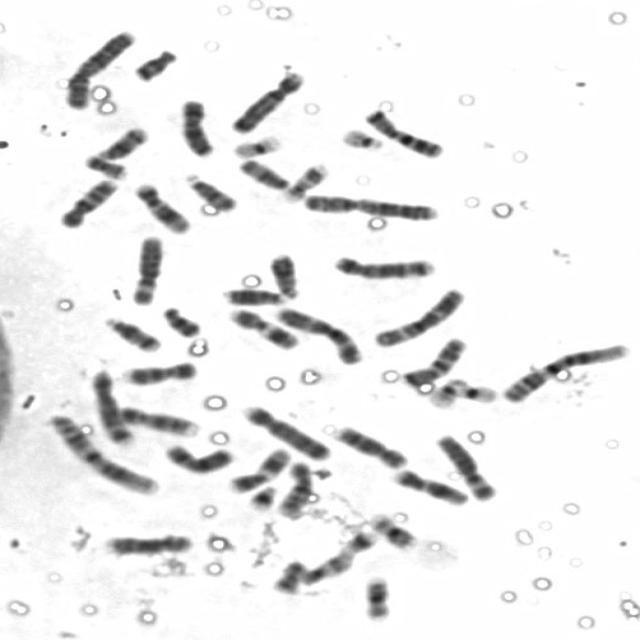A1: (42, 409, 163, 496), (496, 338, 635, 405)
A2: (59, 25, 138, 110), (298, 188, 442, 222)
A3: (367, 283, 469, 348), (269, 301, 367, 366)
B4: (236, 399, 333, 463), (225, 66, 308, 136)
B5: (85, 365, 139, 447), (328, 250, 437, 281)
C10: (54, 173, 121, 230), (271, 456, 315, 520)
C11: (222, 303, 301, 351), (223, 442, 293, 494)
C12: (388, 463, 473, 508), (129, 177, 194, 235)
C6: (431, 428, 501, 503), (125, 230, 167, 306)
C7: (358, 104, 448, 160), (396, 332, 471, 389)
C8: (328, 421, 412, 470), (100, 528, 196, 557)
C9: (111, 400, 201, 439), (116, 357, 200, 388)
D13: (262, 248, 304, 300), (218, 283, 289, 307)
D14: (98, 311, 165, 354), (92, 122, 150, 162)
D15: (180, 168, 240, 213), (233, 153, 292, 191)
E16: (363, 508, 422, 552), (357, 571, 395, 622)
E17: (276, 158, 332, 204), (296, 546, 359, 586)
E18: (128, 43, 181, 83), (157, 301, 204, 339)
F19: (227, 130, 286, 160), (453, 377, 501, 405)
F20: (78, 149, 131, 180), (270, 562, 312, 597)
G21: (242, 481, 280, 512), (339, 526, 381, 554)
G22: (430, 371, 476, 408), (336, 123, 386, 151)
X: (158, 437, 238, 476), (173, 93, 218, 159)
